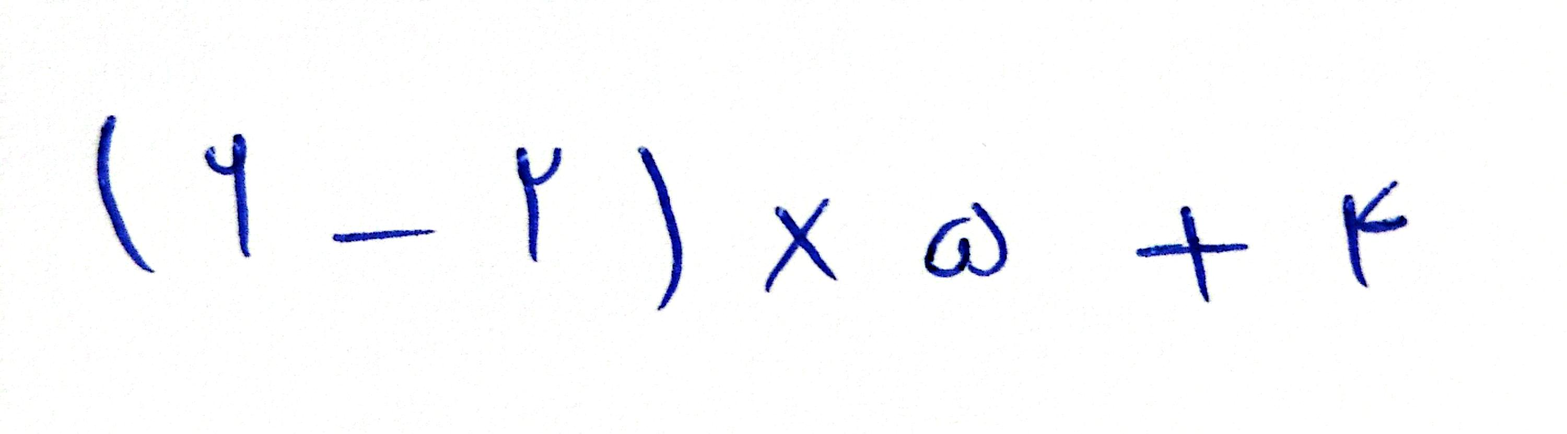character: (1138, 205, 1250, 303), (97, 113, 155, 274), (636, 147, 684, 310), (764, 197, 841, 292), (1342, 182, 1409, 290), (925, 204, 1011, 279), (515, 144, 566, 265), (205, 135, 250, 258), (333, 226, 434, 243)
